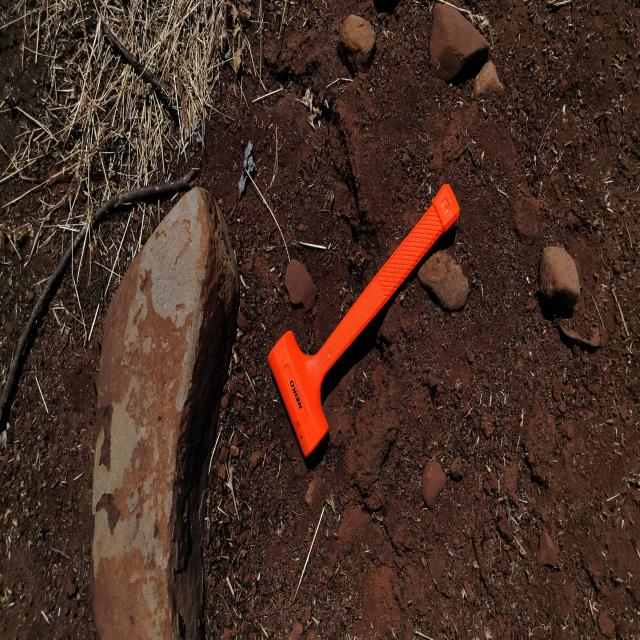Orange_hammer: (267, 181, 460, 461)
